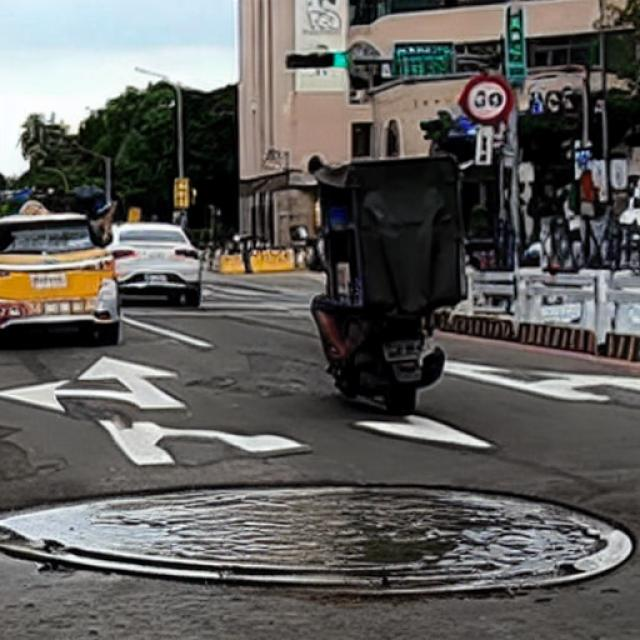puddle: (3, 486, 636, 594)
